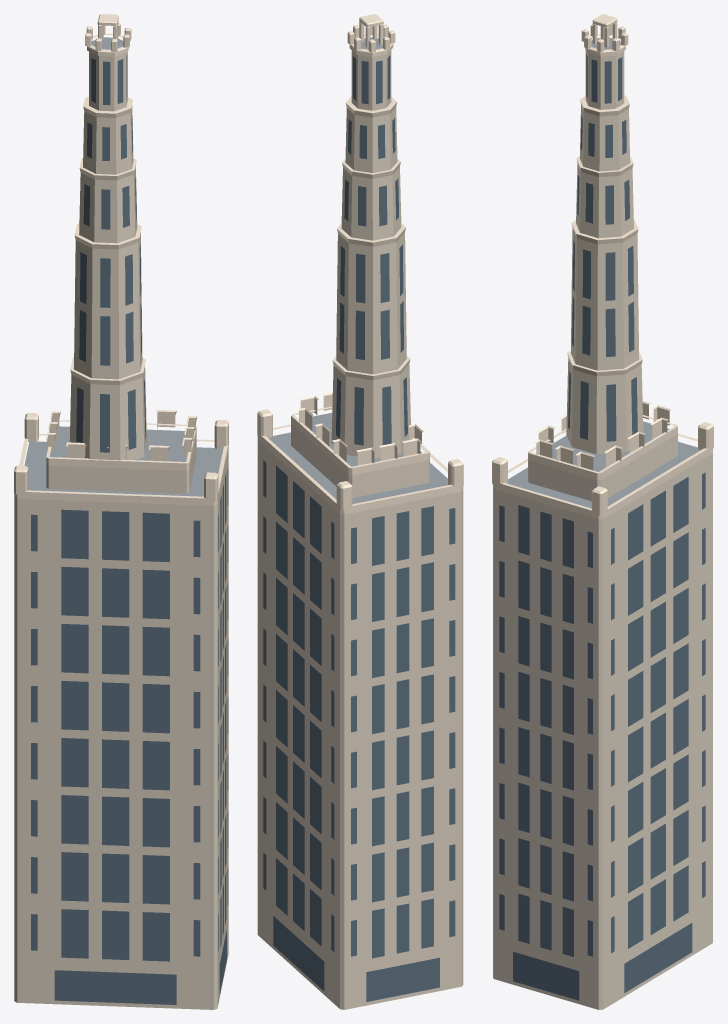
Rendered from detail.glb.
3 views of the same model, side by side, from view 1: azimuth 30°, elevation 25°; view 2: azimuth 150°, elevation 25°; view 3: azimuth 270°, elevation 25° (orthographic). The views are drawn at different scales.
Parts seen in each view (by area): view 1: mather-tower; view 2: mather-tower; view 3: mather-tower.
Boxes of the visible parts, left/top/right/bottom form: mather-tower: left=14, top=14, right=228, bottom=1009; mather-tower: left=257, top=14, right=463, bottom=1009; mather-tower: left=492, top=14, right=713, bottom=1009.
Size of the model in its own units: 36.38 by 158 by 33.95.
